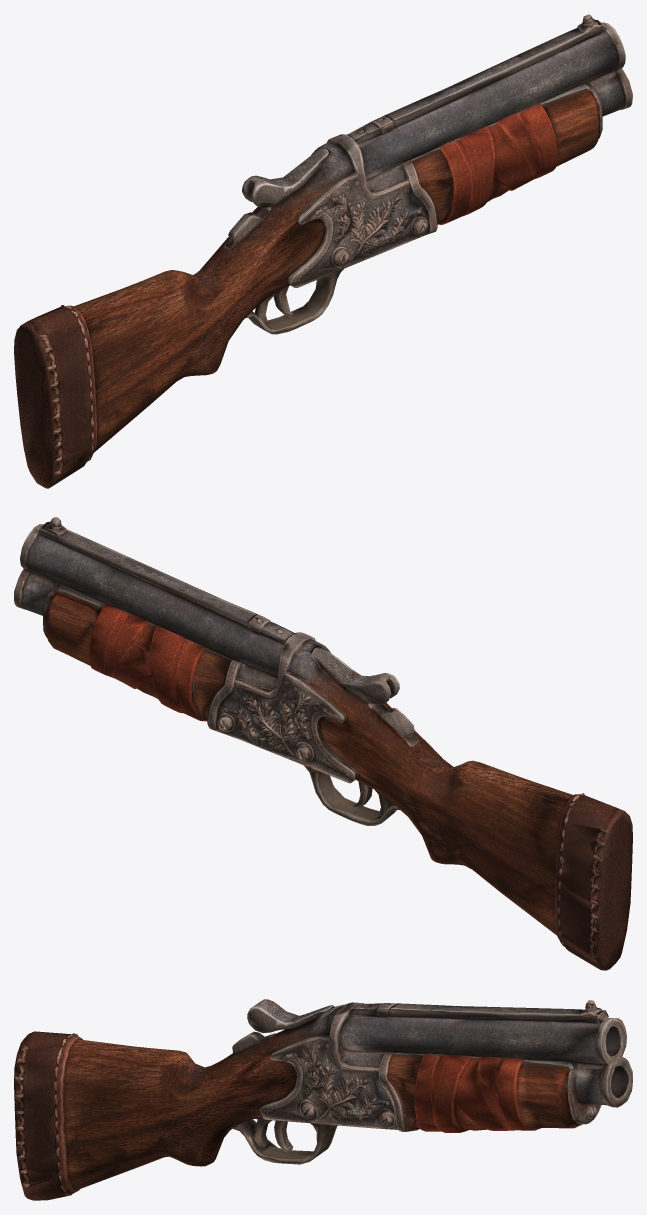
Rendered from shotgun.glb.
The picture shows the model from 3 angles, top to bottom: view 1: azimuth 30°, elevation 25°; view 2: azimuth 150°, elevation 25°; view 3: azimuth 330°, elevation 25°; orthographic projection.
Visible parts, largest first — view 1: tripo_node_efd526a0-cc2e-466c-b72f-96a409c592da; view 2: tripo_node_efd526a0-cc2e-466c-b72f-96a409c592da; view 3: tripo_node_efd526a0-cc2e-466c-b72f-96a409c592da.
Part boxes in pixels (x1,y1,x2,y2): tripo_node_efd526a0-cc2e-466c-b72f-96a409c592da: [14, 14, 632, 488]; tripo_node_efd526a0-cc2e-466c-b72f-96a409c592da: [14, 517, 632, 970]; tripo_node_efd526a0-cc2e-466c-b72f-96a409c592da: [14, 999, 632, 1200].
Bounding box in the file's own units: 0.9794 × 0.5137 × 0.1321.
1 material, 1 textured.
